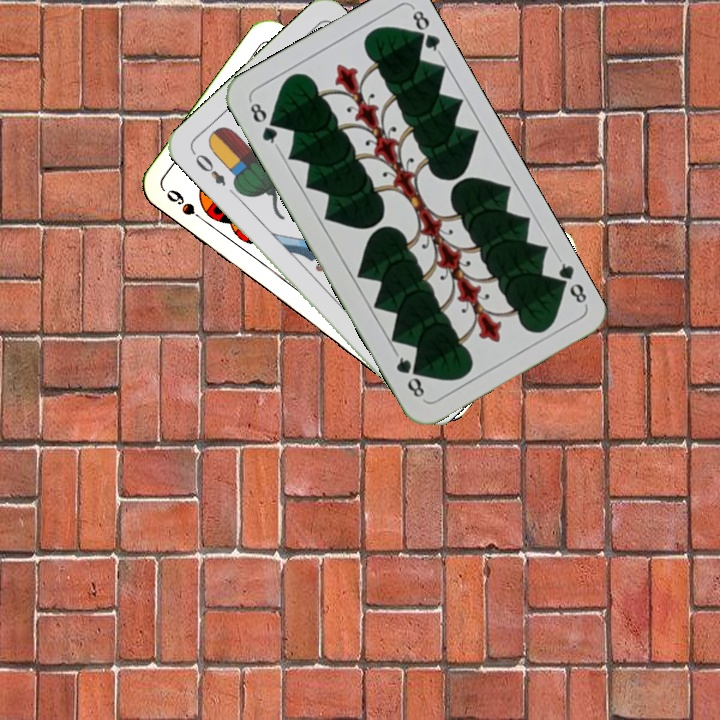EO: (188, 147, 229, 189)
G8: (549, 254, 590, 308), (245, 96, 281, 150)
S9: (162, 185, 212, 228)
